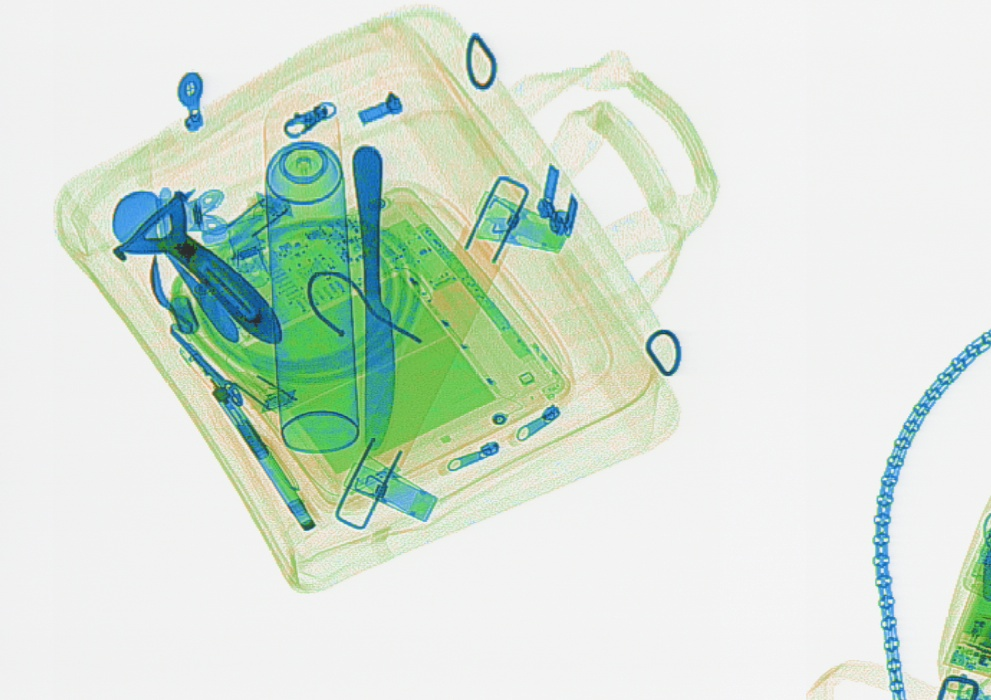knife: (111, 185, 284, 347), (349, 144, 397, 452)
pressure: (261, 89, 361, 454)
